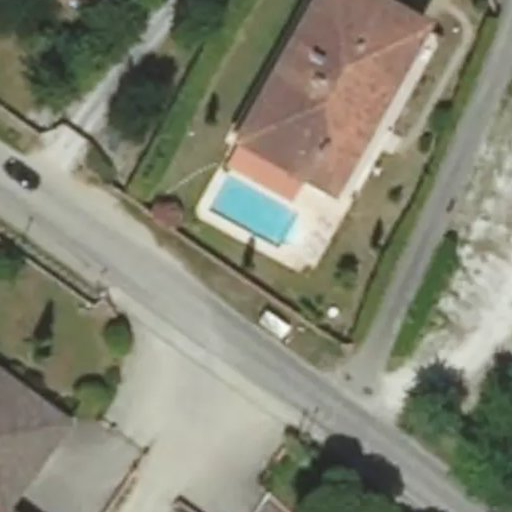pool: (208, 174, 304, 248)
